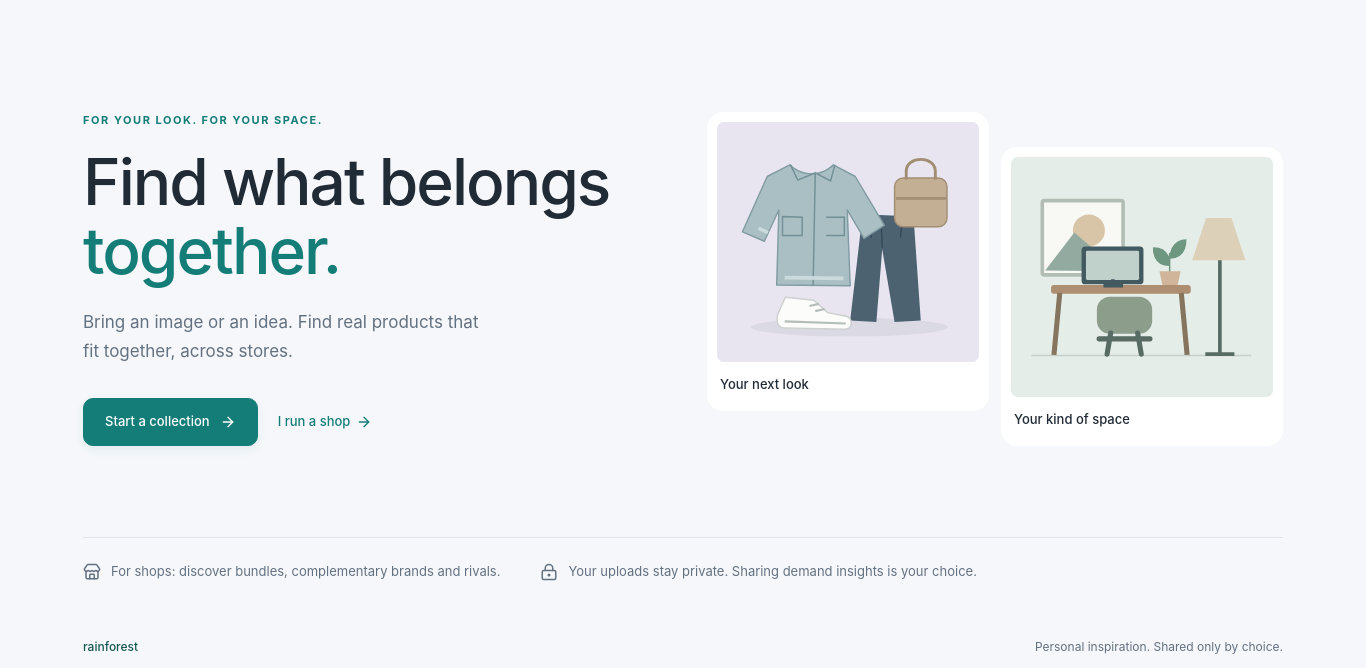
Test case: explains a non-JSON server failure instead of leaking a parse error
Click the button "Start a collection" at (170, 422), box x1=83 y1=398 x2=258 y2=446
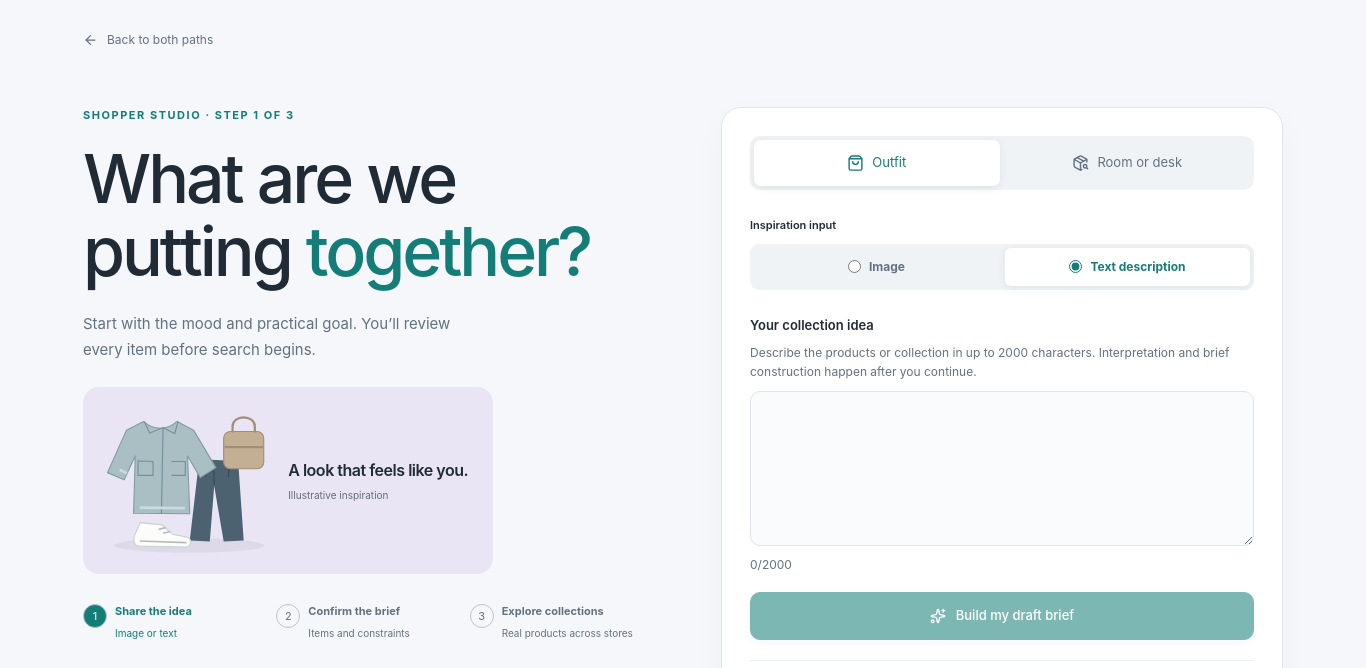
Click the button "Room or desk" at (1127, 163), box x1=1004 y1=140 x2=1250 y2=186
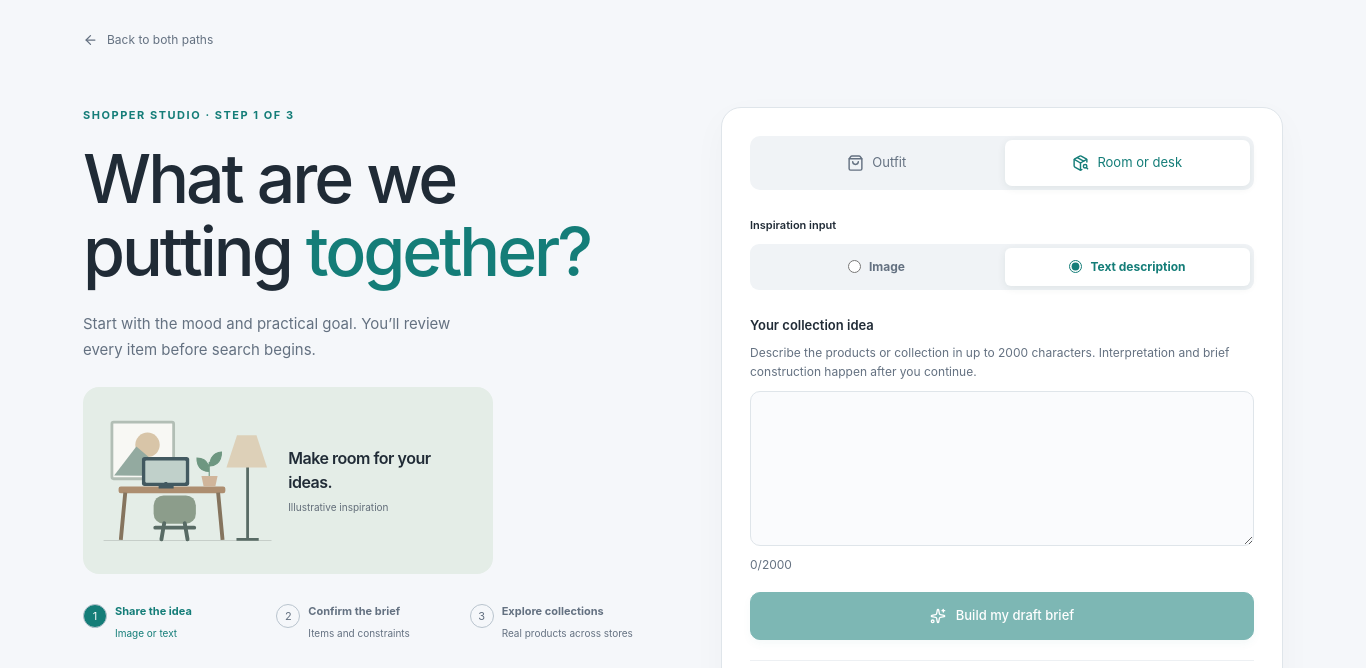
Type "A compact reading corner with warm wood and soft light" into the text box labelled "Your collection idea" at (1002, 468), box x1=750 y1=391 x2=1254 y2=546
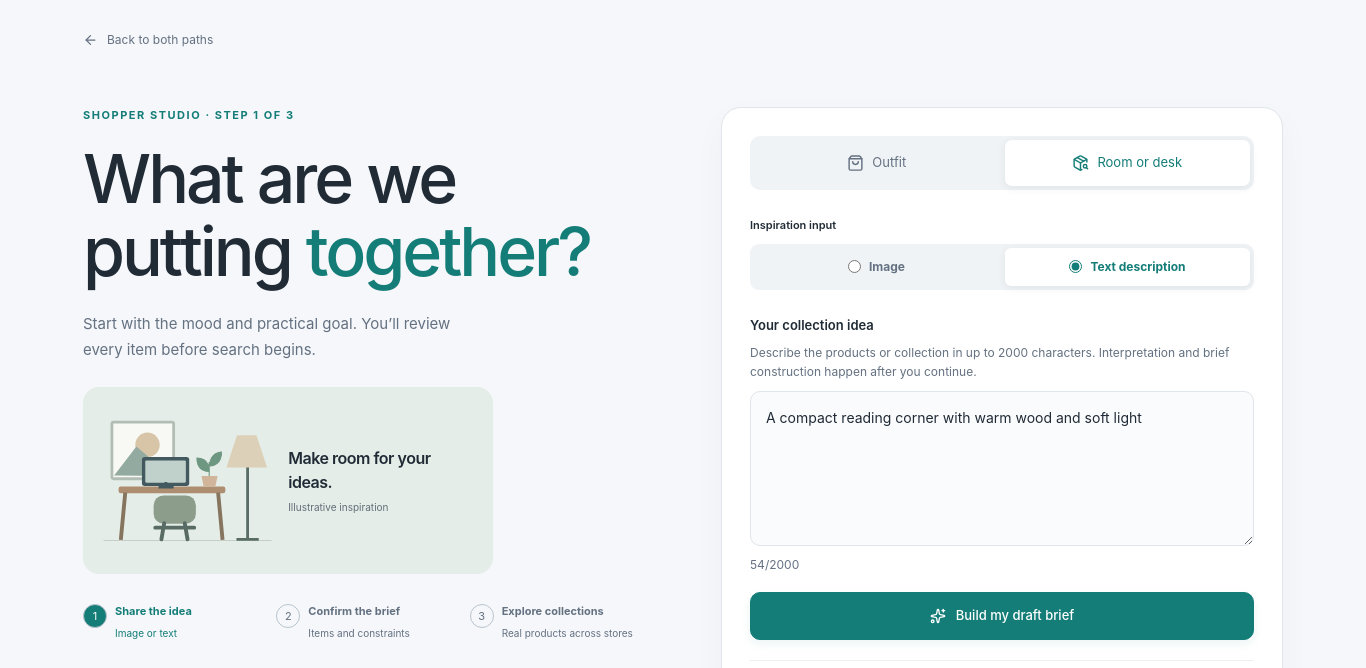
Click the button "Build my draft brief" at (1002, 616), box x1=750 y1=592 x2=1254 y2=640
(page scrolled)
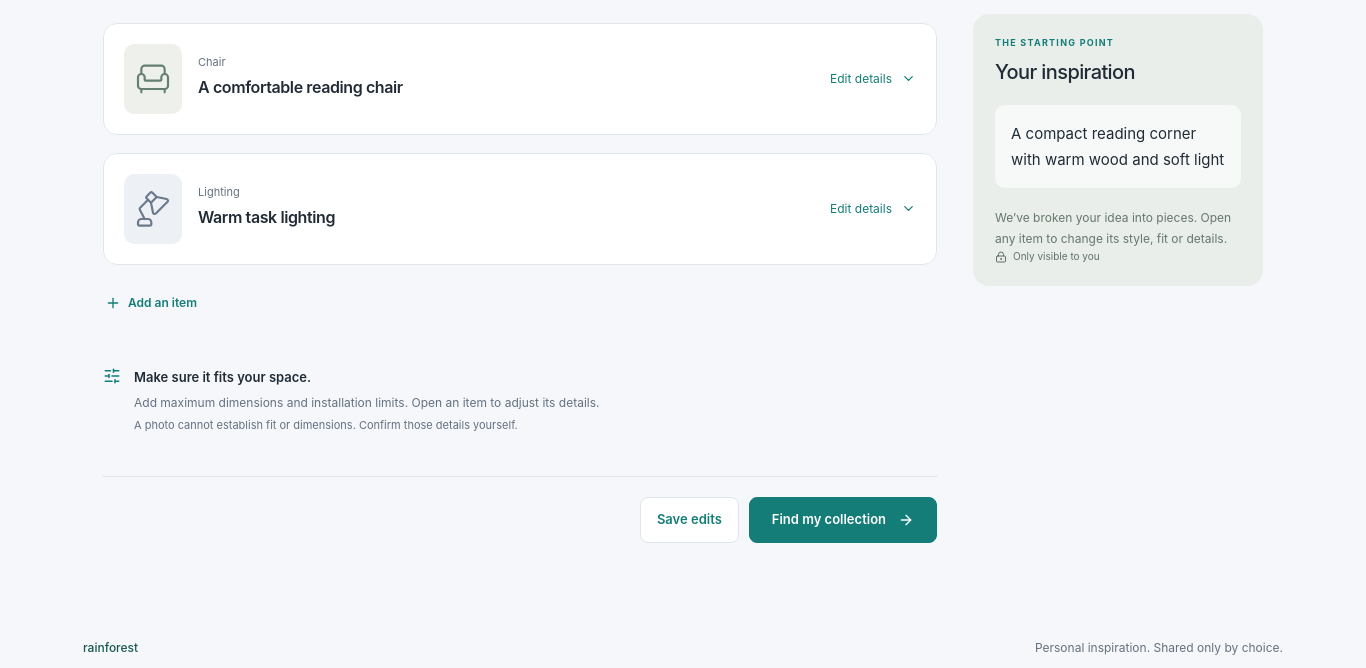
Click the button "Find my collection" at (843, 520), box x1=749 y1=497 x2=937 y2=543
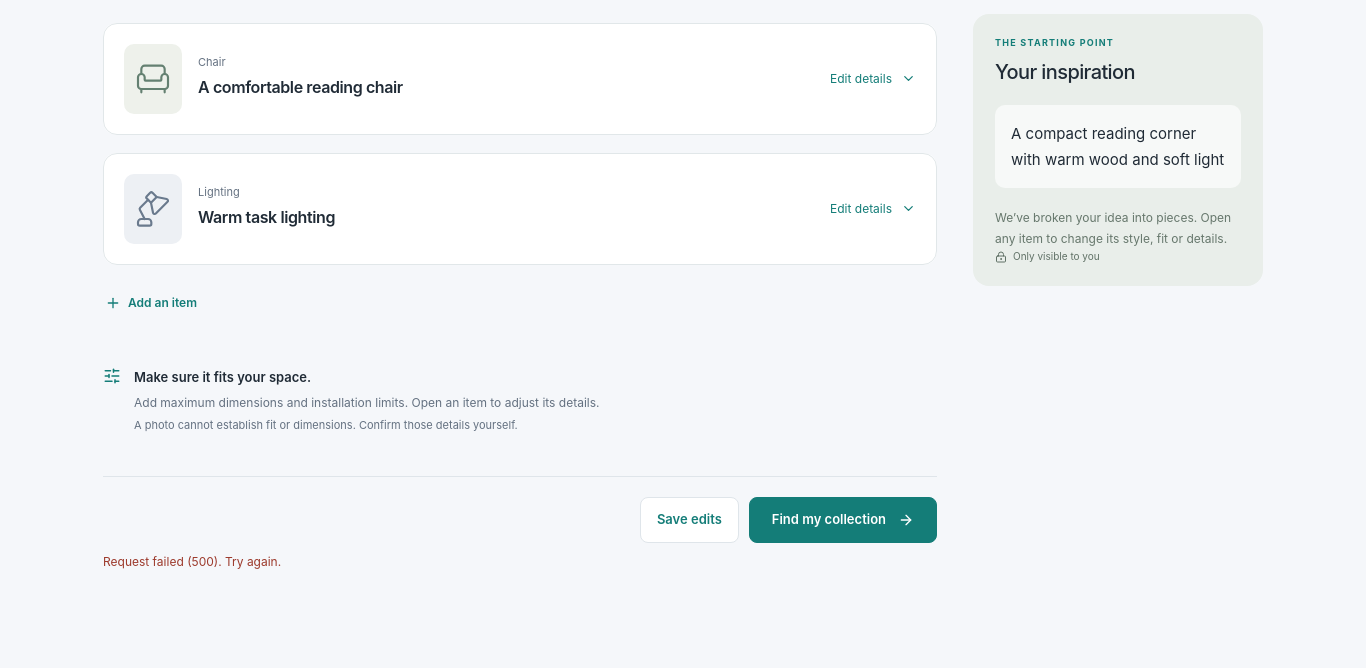
Expected: the message shows "Request failed (500)", x1=103 y1=554 x2=281 y2=569
